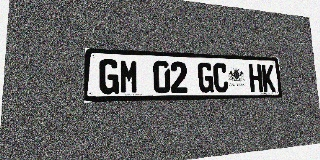0: (153, 61, 171, 94)
2: (170, 61, 188, 93)
C: (213, 63, 229, 93)
G: (99, 59, 119, 94), (198, 62, 214, 93)
H: (249, 64, 263, 92)
K: (261, 64, 276, 92)
M: (120, 59, 139, 94)
